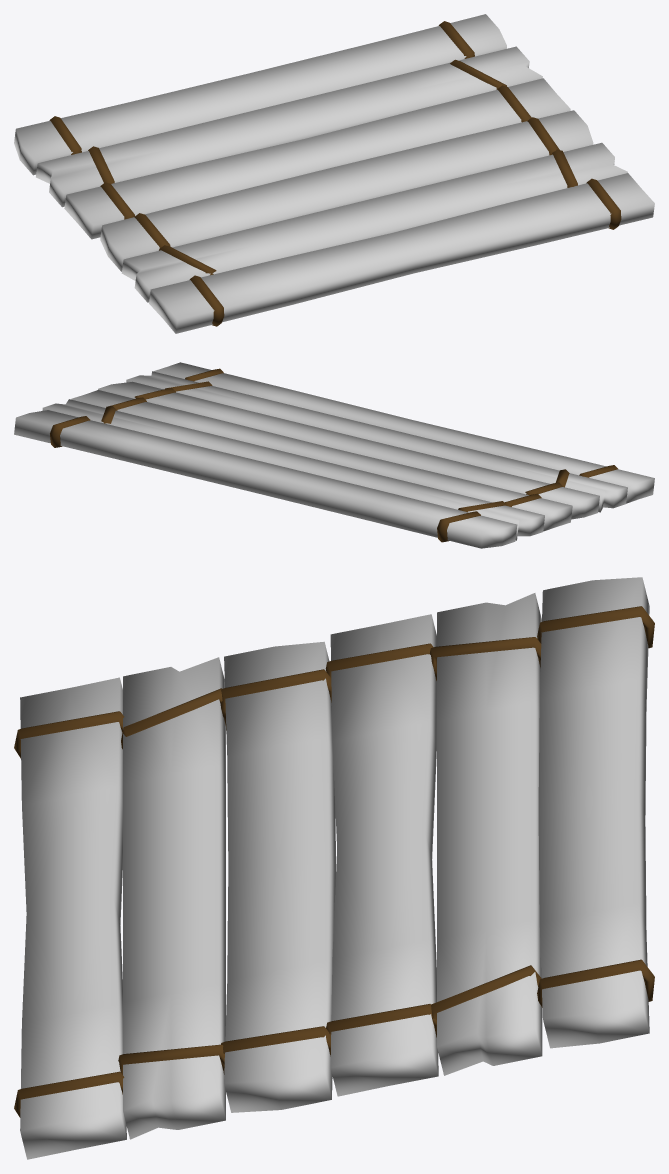
File: qiao2.FBX
3 views of the same model, one above another, from view 1: azimuth 30°, elevation 25°; view 2: azimuth 150°, elevation 25°; view 3: azimuth 270°, elevation 25° (orthographic). The views are drawn at different scales.
Visible parts, largest first — view 1: q2; view 2: q2; view 3: q2.
Part boxes in pixels (<box>): q2: <box>14,14,654,333</box>; q2: <box>14,362,654,548</box>; q2: <box>14,577,654,1159</box>.
Size of the model in its own units: 674 by 119 by 419.
